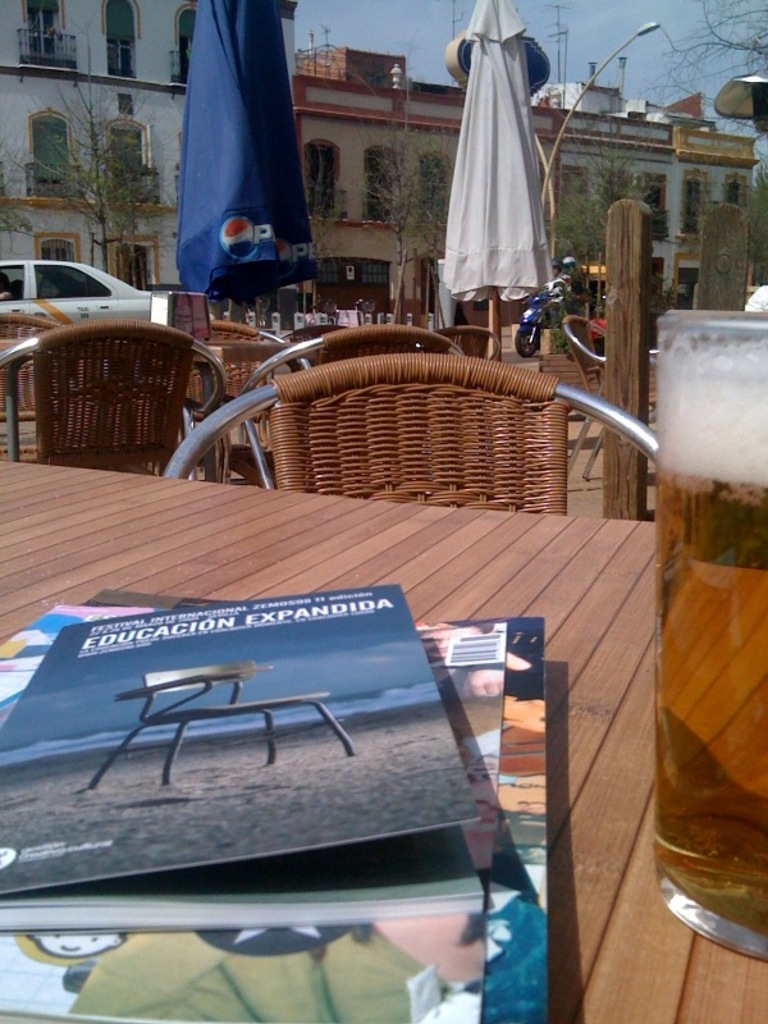Beer: (645, 288, 766, 1009)
